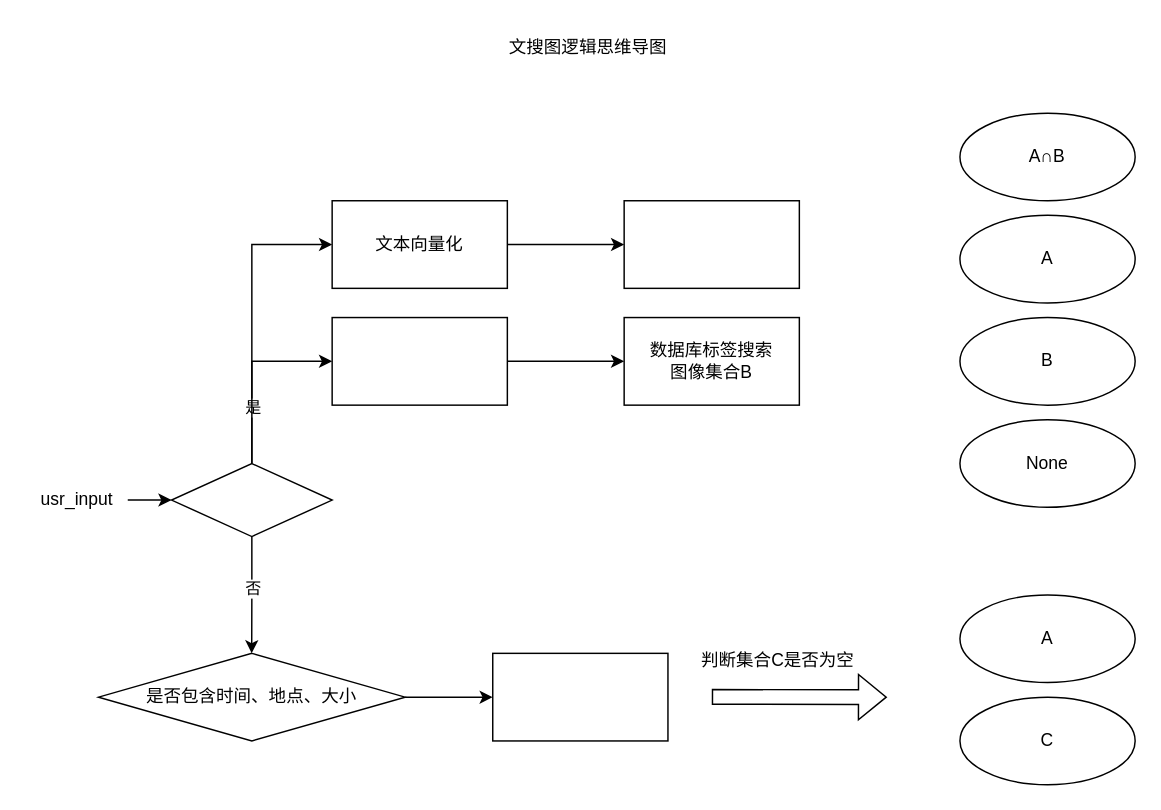
The diagram is 1161 pixels wide and 810 high, and some of its shapes have lost their labels. The centre of each missing label's shape, as x and y in pixels:
向量库获取 图像集合A: point 711,243
数据库过滤检索 图像集合C: point 579,696
是否提取tags: point 251,499
标签扩散: point 419,360
